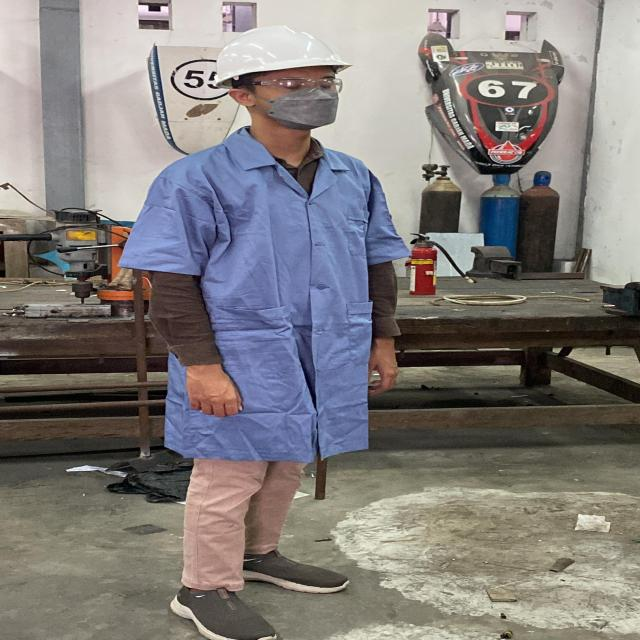face_mask: (260, 75, 343, 130)
glasses: (226, 74, 348, 97)
hand_noglove: (173, 368, 255, 424), (352, 352, 412, 400)
head_helmet: (212, 22, 348, 77)
person: (125, 19, 433, 640)
shoes: (149, 570, 281, 640), (222, 546, 370, 600)
